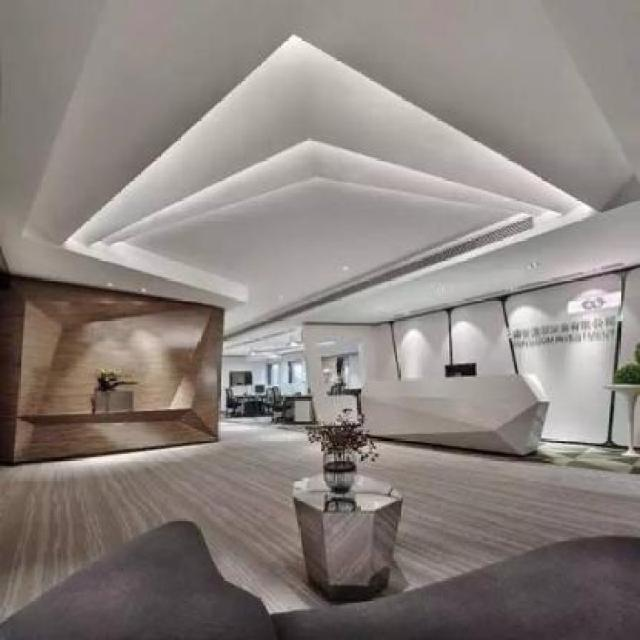frontdesk: (351, 362, 559, 463)
